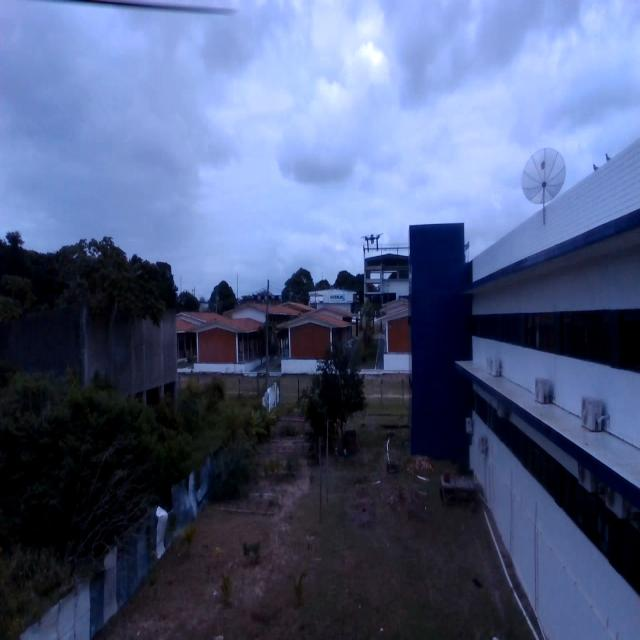-uav-: (357, 227, 389, 256)
